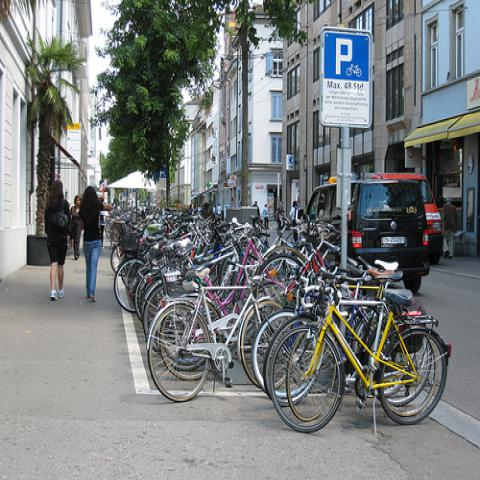car: (310, 183, 430, 292)
truck: (370, 172, 445, 266)
